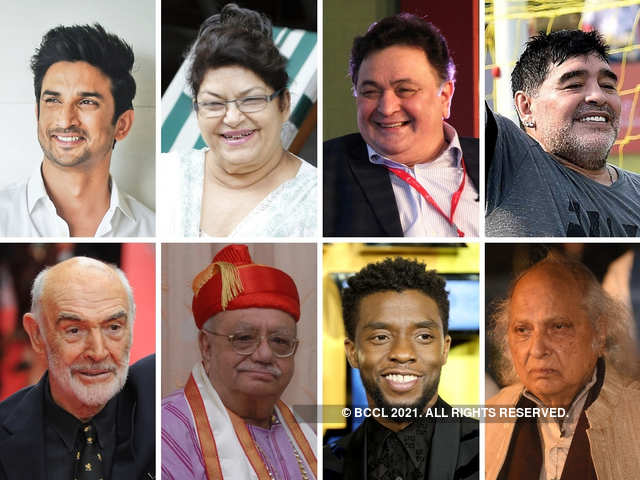NoMask: (48, 303, 126, 405), (362, 315, 441, 408), (197, 81, 273, 172), (548, 64, 620, 156), (221, 316, 295, 401), (359, 72, 432, 153), (512, 312, 583, 394), (38, 84, 103, 168)
